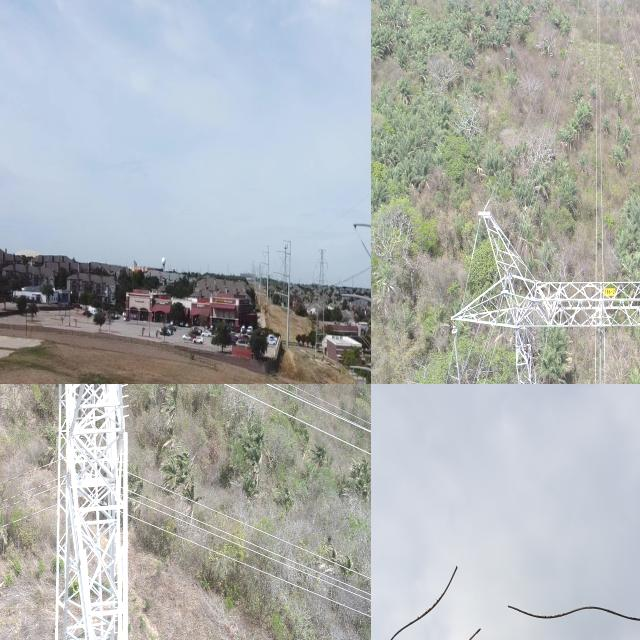杆塔: (451, 187, 640, 384), (56, 384, 128, 640), (312, 245, 329, 359)
正常电缆: (129, 466, 371, 584), (130, 509, 371, 623), (209, 384, 371, 461), (255, 384, 371, 438)
正常绝缘子: (449, 324, 465, 384), (597, 326, 604, 384), (359, 237, 371, 262)
电缆破损: (371, 558, 640, 640)
